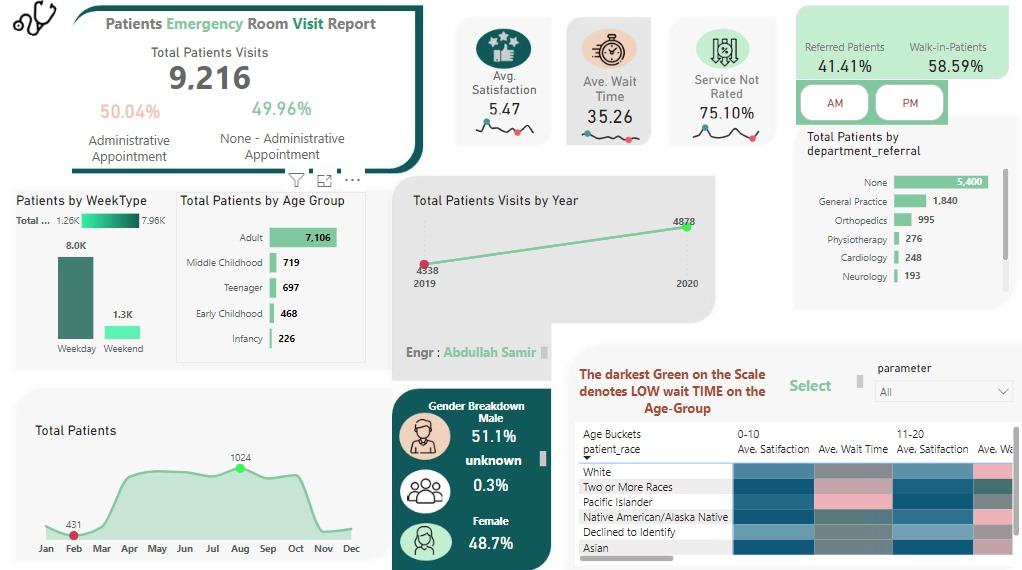

This screenshot's page, from the dashboard's own definition file:
{"tool":"powerbi","page":{"name":"Page 1","canvas":[1280,720],"ordinal":0},"visuals":[{"type":"card","title":"Total Patients Visits","fields":{"Values":["Calculations.Total Patients"]},"box":[162.1,58.2,198.9,62.1],"z":0},{"type":"card","fields":{"Values":["Calculations.% Admninistrative Schedule"]},"box":[113.5,120.3,97,42.7],"z":1000},{"type":"card","fields":{"Values":["Calculations.% None - Admninistrative Schedule"]},"box":[301.8,116.5,101.9,43.7],"z":2000},{"type":"pivotTable","fields":{"Values":["Calculations.Average Satifaction Score","Calculations.Average Wait Time"],"Rows":["Patient DataSet.patient_race"],"Columns":["Patient DataSet.Age Buckets"]},"box":[719.1,531.8,560.9,180],"z":3000},{"type":"slicer","fields":{"Values":["parameter.parameter"]},"box":[1083.6,450.9,192.7,77.3],"z":4000},{"type":"clusteredBarChart","fields":{"Category":["Patient DataSet.Age Group"],"Y":["Calculations.Total Patients"]},"box":[220,243.8,237.5,213.8],"z":5000},{"type":"areaChart","title":"Total Patients","fields":{"Category":["Date.Month"],"Y":["Calculations.Values Max point (Month)","Calculations.Total Patients"]},"box":[38.2,531.8,419.1,176.4],"z":6000},{"type":"advancedSlicerVisual","title":"Moment","fields":{"Values":["Patient DataSet.Moment"]},"box":[995,103.8,190,56.2],"z":7000},{"type":"lineChart","title":"Total Patients Visits by Year","fields":{"Y":["Calculations.Total Patients","Calculations.Values Max point (year)"],"Category":["Date.Year"]},"box":[511.2,243.8,366.2,132.5],"z":8000},{"type":"barChart","fields":{"Category":["Patient DataSet.department_referral"],"Y":["Calculations.Total Patients"]},"box":[1003.8,165,262.5,208.8],"z":9000},{"type":"card","fields":{"Values":["Calculations.% Un Referred Patients"]},"box":[1143.8,63.8,101.2,45],"z":10000},{"type":"card","fields":{"Values":["Calculations.% Referred Patients"]},"box":[1008.8,63.8,95,45],"z":11000},{"type":"card","fields":{"Values":["Calculations.HitMap Caption"]},"box":[685,448.8,315,82.5],"z":12000},{"type":"textbox","box":[77.6,162.1,167.9,54.3],"z":13000},{"type":"textbox","box":[247.5,160.1,210.6,56.3],"z":14000},{"type":"card","title":"Avg. Satisfaction","fields":{"Values":["Calculations.Average Satifaction Score"]},"box":[572.6,88.3,115.5,61.1],"z":15000},{"type":"card","title":"Ave. Wait Time","fields":{"Values":["Calculations.Average Wait Time"]},"box":[719.1,95.1,87.3,67.9],"z":16000},{"type":"card","title":"Service Not Rated ","fields":{"Values":["Calculations.% No Rating"]},"box":[861.7,93.2,94.1,61.1],"z":17000},{"type":"textbox","box":[1103.8,48.8,162.5,30],"z":18000},{"type":"textbox","box":[976.2,48.8,158.8,30],"z":19000},{"type":"clusteredColumnChart","title":"Patients by WeekType","fields":{"Y":["Calculations.Total Patients"],"Category":["Date.WeeType"]},"box":[15,243.8,220,213.8],"z":20000},{"type":"card","fields":{"Values":["Calculations.% Female Visit"]},"box":[573.8,653.8,80,57.5],"z":21000},{"type":"card","fields":{"Values":["Calculations.% Male Visit"]},"box":[577.5,520,78.8,57.5],"z":22000},{"type":"card","fields":{"Values":["Calculations.% UnKnown"]},"box":[577.5,577.5,72.5,63.8],"z":23000},{"type":"PBI_CV_25997FEB_F466_44FA_B562_AC4063283C4C","fields":{"measure":["Calculations.Average Satifaction Score"],"axis":["Date.Month"]},"box":[577.4,138.8,110.6,41.7],"z":24000},{"type":"PBI_CV_25997FEB_F466_44FA_B562_AC4063283C4C","fields":{"measure":["Calculations.% No Rating","Calculations.% No Rating"],"axis":["Date.Month"]},"box":[849.1,146.5,121.3,41.7],"z":25000},{"type":"PBI_CV_25997FEB_F466_44FA_B562_AC4063283C4C","fields":{"measure":["Calculations.Average Wait Time"],"axis":["Date.Month"]},"box":[709.4,154.3,110.6,35.9],"z":26000},{"type":"textbox","box":[516.2,497.5,158.8,30],"z":26001},{"type":"textbox","box":[533.8,512.5,158.8,30],"z":26003},{"type":"textbox","box":[553.8,562.5,133.8,30],"z":26004},{"type":"textbox","box":[533.8,641.2,158.8,30],"z":26005},{"type":"textbox","box":[105,15,391.2,43.8],"z":26006},{"type":"textbox","box":[950,467.5,133.8,30],"z":26007},{"type":"textbox","box":[496.2,430,192.5,27.5],"z":26008}]}

Visuals, with their boxes in screenshot pixels (x1, y1, x2, y2), scaled from the page's 1280x720 canvas onto the 1022x570 screenshot:
"Total Patients Visits" card: box(129, 46, 288, 95)
card - Calculations.% Admninistrative Schedule: box(91, 95, 168, 129)
card - Calculations.% None - Admninistrative Schedule: box(241, 92, 322, 127)
pivotTable - Calculations.Average Satifaction Score x Calculations.Average Wait Time: box(574, 421, 1021, 564)
slicer - parameter.parameter: box(865, 357, 1019, 418)
clusteredBarChart - Patient DataSet.Age Group x Calculations.Total Patients: box(176, 193, 365, 362)
"Total Patients" areaChart: box(31, 421, 365, 561)
"Moment" advancedSlicerVisual: box(794, 82, 946, 127)
"Total Patients Visits by Year" lineChart: box(408, 193, 701, 298)
barChart - Patient DataSet.department_referral x Calculations.Total Patients: box(801, 131, 1011, 296)
card - Calculations.% Un Referred Patients: box(913, 51, 994, 86)
card - Calculations.% Referred Patients: box(805, 51, 881, 86)
card - Calculations.HitMap Caption: box(547, 355, 798, 421)
textbox: box(62, 128, 196, 171)
textbox: box(198, 127, 366, 171)
"Avg. Satisfaction" card: box(457, 70, 549, 118)
"Ave. Wait Time" card: box(574, 75, 644, 129)
"Service Not Rated " card: box(688, 74, 763, 122)
textbox: box(881, 39, 1011, 62)
textbox: box(779, 39, 906, 62)
"Patients by WeekType" clusteredColumnChart: box(12, 193, 188, 362)
card - Calculations.% Female Visit: box(458, 518, 522, 563)
card - Calculations.% Male Visit: box(461, 412, 524, 457)
card - Calculations.% UnKnown: box(461, 457, 519, 508)
PBI_CV_25997FEB_F466_44FA_B562_AC4063283C4C - Calculations.Average Satifaction Score x Date.Month: box(461, 110, 549, 143)
PBI_CV_25997FEB_F466_44FA_B562_AC4063283C4C - Calculations.% No Rating x Calculations.% No Rating: box(678, 116, 775, 149)
PBI_CV_25997FEB_F466_44FA_B562_AC4063283C4C - Calculations.Average Wait Time x Date.Month: box(566, 122, 655, 151)
textbox: box(412, 394, 539, 418)
textbox: box(426, 406, 553, 429)
textbox: box(442, 445, 549, 469)
textbox: box(426, 508, 553, 531)
textbox: box(84, 12, 396, 47)
textbox: box(759, 370, 865, 394)
textbox: box(396, 340, 550, 362)
